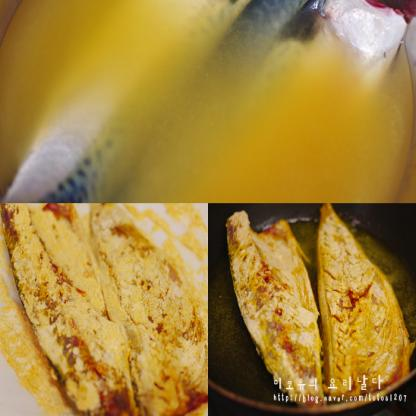Peixe: (220, 196, 394, 403)
